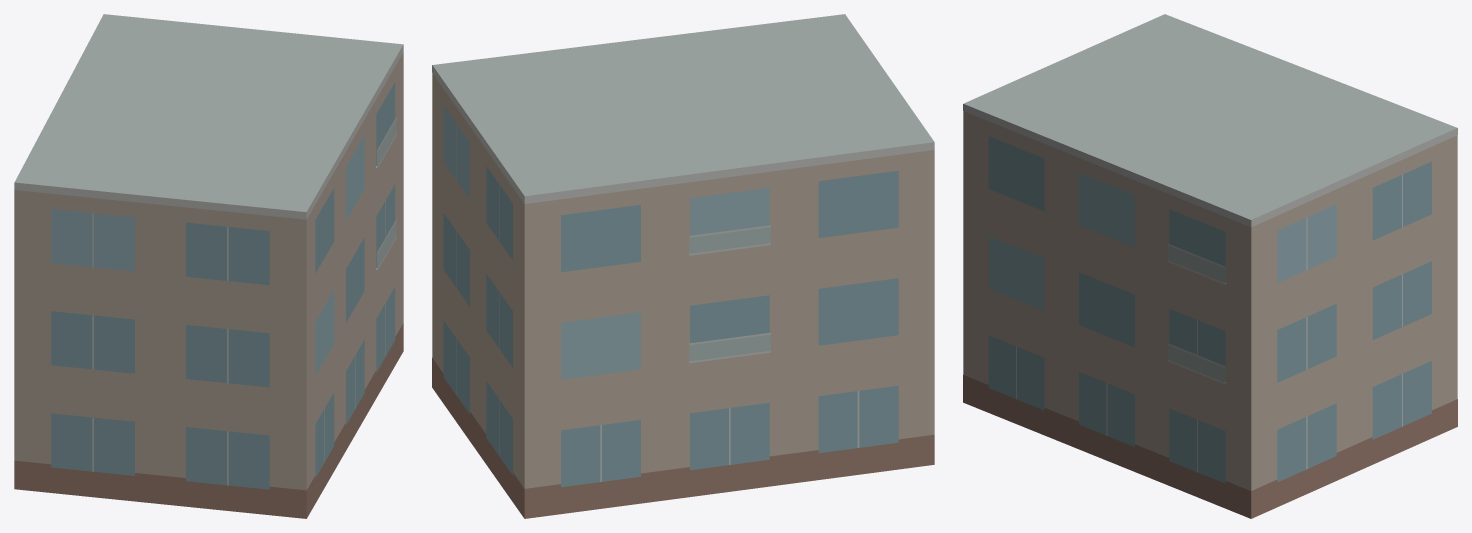
File: survey-upis-32908879.glb
3 views of the same model, side by side, from view 1: azimuth 30°, elevation 25°; view 2: azimuth 150°, elevation 25°; view 3: azimuth 270°, elevation 25° (orthographic). The views are drawn at different scales.
Visible parts, largest first — view 1: survey-upis-32908879.tmp; view 2: survey-upis-32908879.tmp; view 3: survey-upis-32908879.tmp.
Boxes of the visible parts, box(x1,y1,x2,y2) form: survey-upis-32908879.tmp: box(14, 14, 403, 518); survey-upis-32908879.tmp: box(432, 14, 934, 518); survey-upis-32908879.tmp: box(963, 14, 1457, 518).
Bounding box in the file's own units: 14.95 × 10.1 × 15.16.
